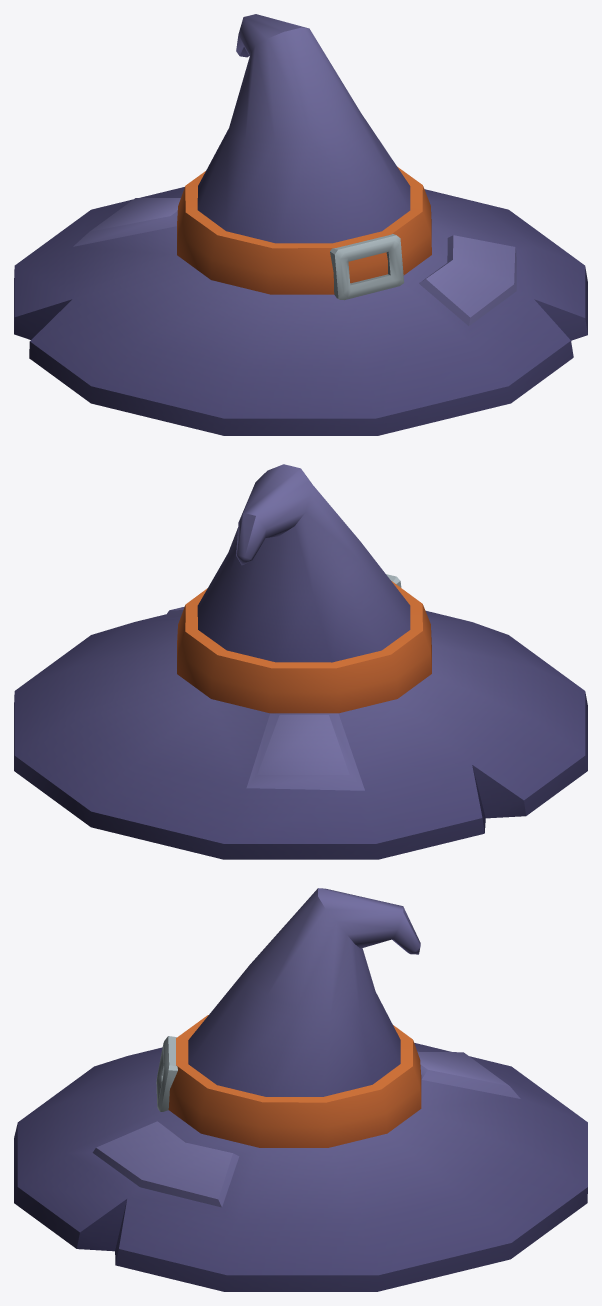
File: hat_mage.glb
The picture shows the model from 3 angles, top to bottom: view 1: azimuth 30°, elevation 25°; view 2: azimuth 150°, elevation 25°; view 3: azimuth 270°, elevation 25°; orthographic projection.
Parts seen in each view (by area): view 1: hat_mage; view 2: hat_mage; view 3: hat_mage.
Boxes of the visible parts, box(x1,y1,x2,y2) form: hat_mage: box(14, 14, 587, 435); hat_mage: box(14, 464, 587, 859); hat_mage: box(14, 888, 587, 1291).
Size of the model in its own units: 2.09 by 1.13 by 2.09.
1 material, 1 textured.
